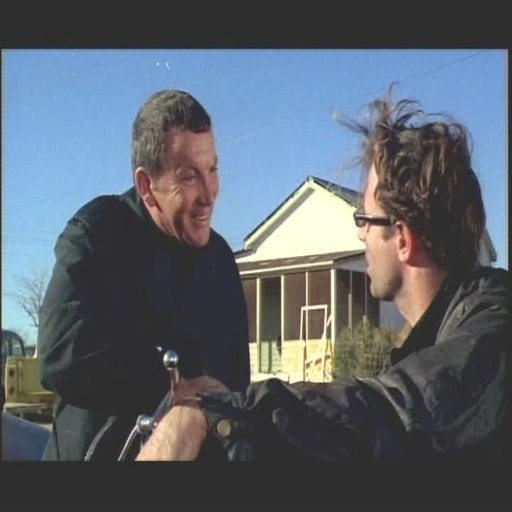hand: (131, 402, 206, 462)
